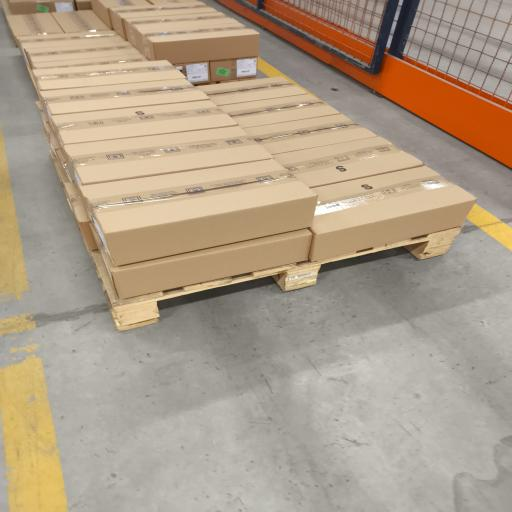pallet: (85, 228, 461, 331), (90, 228, 461, 331)
